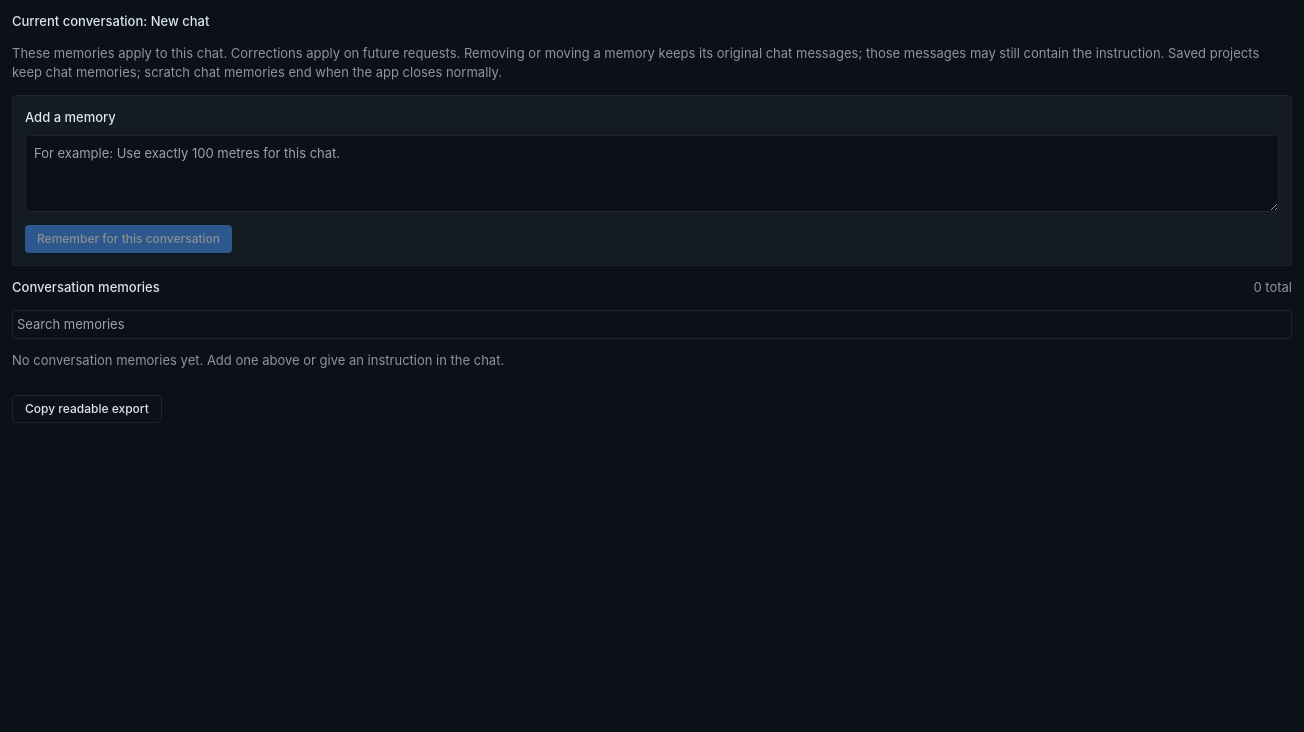
Test: keeps the conversation memory when saving its destination fails
In the text box named "New memory": [652, 173] box [25,135,1279,212], type "Buffer distance is exactly 100 metres."
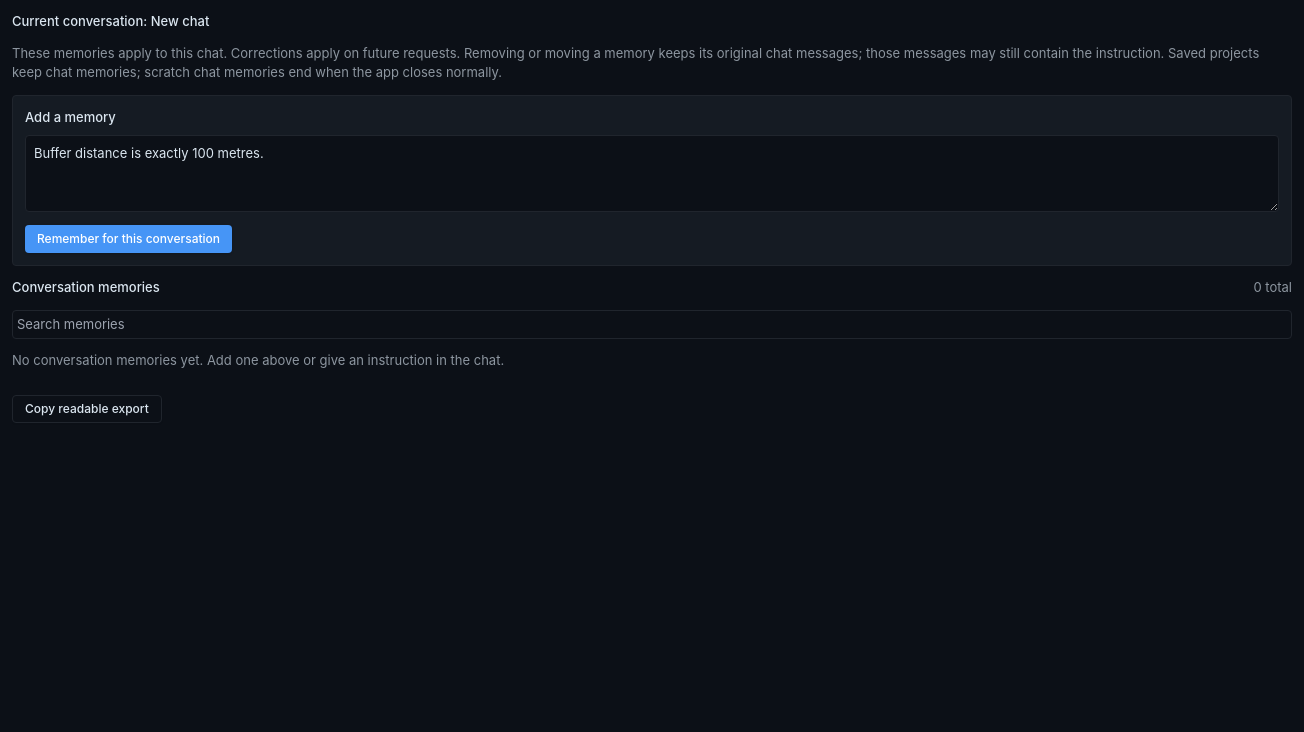
Click the button "Remember for this conversation": [129, 239] box [25,225,232,253]
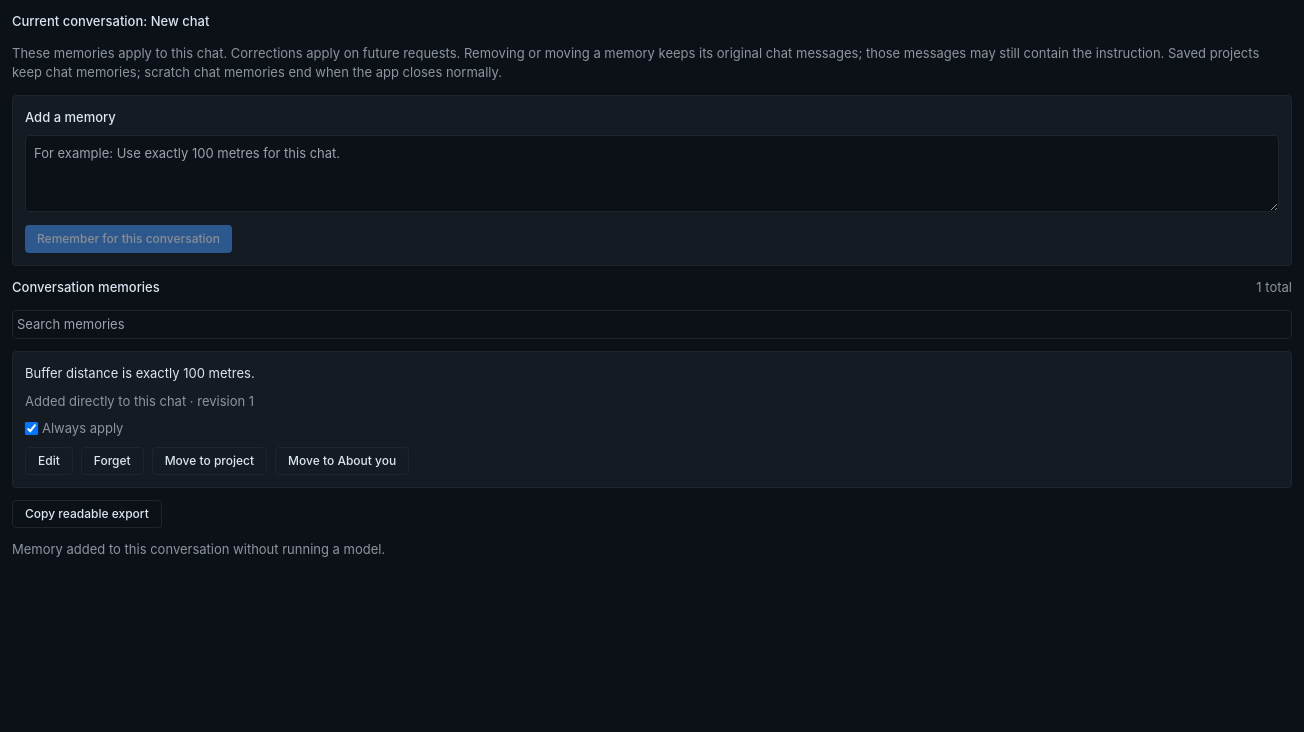
Expected: the message shows "without running a model", [12,540,385,556]
Click the button "Move to About you": [342, 460] box [275,446,409,474]
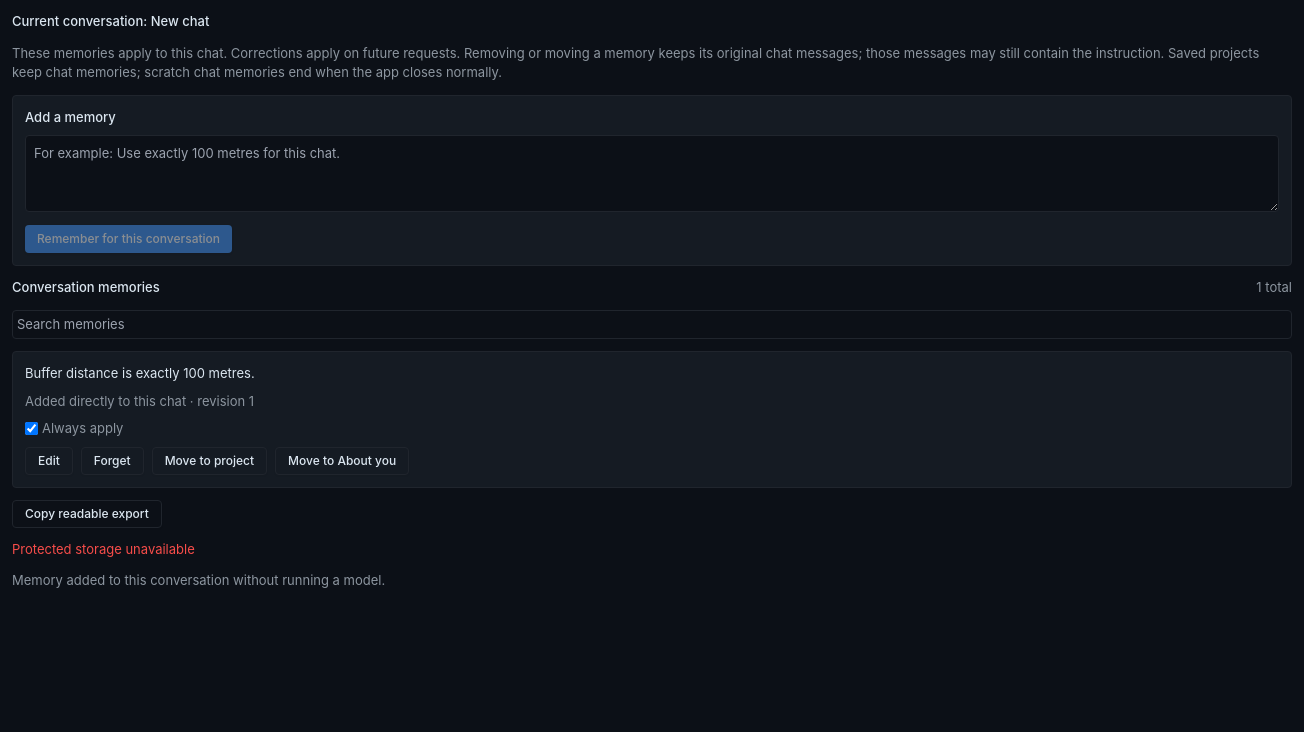
Expected: the text "Protected storage unavailable" is shown, [12,540,195,556]
